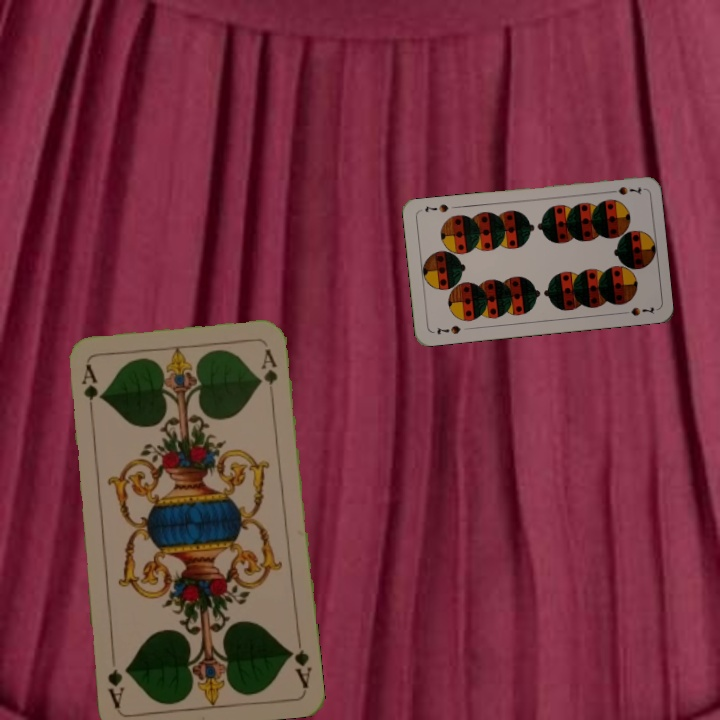GA: (285, 632, 314, 691), (78, 361, 100, 420)
S7: (604, 182, 644, 197), (433, 321, 463, 338)
